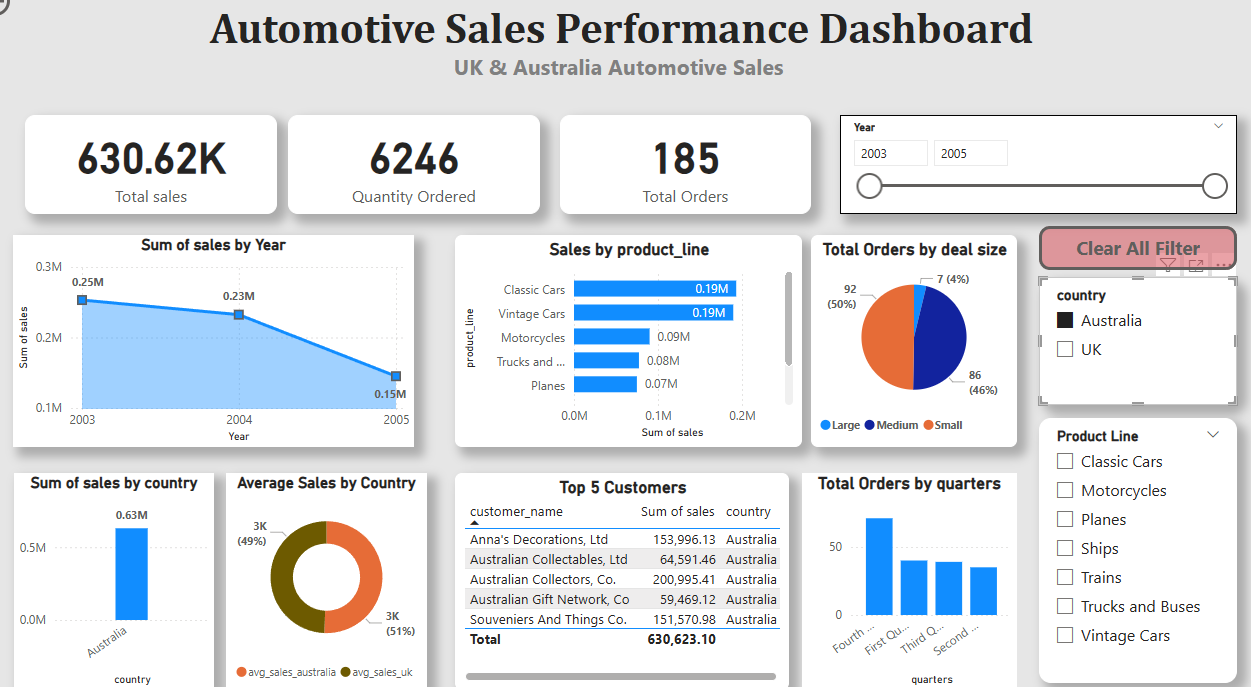

Layout of this report page (visuals, bound fields, positions):
{"tool":"powerbi","page":{"name":"Dashboard","canvas":[1280,720],"ordinal":0},"visuals":[{"type":"textbox","box":[117,16,1059,99],"z":0},{"type":"card","fields":{"Values":["Sum(Working sheet.sales)"]},"box":[50,134,252,99],"z":1000},{"type":"card","fields":{"Values":["Sum(Working sheet.quantity_ordered)"]},"box":[313,134,252,99],"z":2000},{"type":"card","fields":{"Values":["Working sheet.Total Orders"]},"box":[585,134,251,99],"z":3000},{"type":"lineChart","fields":{"Y":["Sum(Working sheet.sales)"],"Category":["Working sheet.order_date.Variation.Date Hierarchy.Year"]},"box":[38,254,401,212],"z":4000},{"type":"barChart","title":"Sales by product_line","fields":{"Y":["Sum(Working sheet.sales)"],"Category":["Working sheet.product_line"]},"box":[480,254,347,212],"z":5000},{"type":"clusteredColumnChart","fields":{"Y":["Sum(Working sheet.sales)"],"Category":["Working sheet.country"]},"box":[39,492,200,217],"z":6000},{"type":"tableEx","title":"Top 5 Customers","fields":{"Values":["Working sheet.customer_name","Sum(Working sheet.sales)","Working sheet.country"]},"box":[480,492,334,217],"z":7000},{"type":"columnChart","fields":{"Category":["Working sheet.quarters"],"Y":["Working sheet.Total Orders"]},"box":[827,492,215,217],"z":8000},{"type":"slicer","fields":{"Values":["Working sheet.order_date.Variation.Date Hierarchy.Year"]},"box":[865,134,397,99],"z":9000},{"type":"slicer","fields":{"Values":["Working sheet.country"]},"box":[1064,296,198,128],"z":10000},{"type":"slicer","fields":{"Values":["Working sheet.product_line"]},"box":[1064,437,198,265],"z":11000},{"type":"actionButton","box":[1064,245,198,44],"z":12000},{"type":"pieChart","title":"Total Orders by deal size","fields":{"Category":["Working sheet.deal_size"],"Y":["Working sheet.Total Orders"]},"box":[836,254,206,212],"z":13000},{"type":"donutChart","title":"Average Sales by Country","fields":{"Y":["Working sheet.avg_sales_australia","Working sheet.avg_sales_uk"]},"box":[251,492,201,217],"z":14000},{"type":"actionButton","box":[0,0,100,40],"z":14001}]}

Visuals, with their boxes in screenshot pixels (x1, y1, x2, y2), scaled from the page's 1280x720 canvas onto the 1251x687 screenshot:
textbox: (114,15,1149,110)
card - Sum(Working sheet.sales): (49,128,295,222)
card - Sum(Working sheet.quantity_ordered): (306,128,552,222)
card - Working sheet.Total Orders: (572,128,817,222)
lineChart - Sum(Working sheet.sales) x Working sheet.order_date.Variation.Date Hierarchy.Year: (37,242,429,445)
"Sales by product_line" barChart: (469,242,808,445)
clusteredColumnChart - Sum(Working sheet.sales) x Working sheet.country: (38,469,234,677)
"Top 5 Customers" tableEx: (469,469,796,677)
columnChart - Working sheet.quarters x Working sheet.Total Orders: (808,469,1018,677)
slicer - Working sheet.order_date.Variation.Date Hierarchy.Year: (845,128,1233,222)
slicer - Working sheet.country: (1040,282,1233,405)
slicer - Working sheet.product_line: (1040,417,1233,670)
actionButton: (1040,234,1233,276)
"Total Orders by deal size" pieChart: (817,242,1018,445)
"Average Sales by Country" donutChart: (245,469,442,677)
actionButton: (0,0,98,38)
